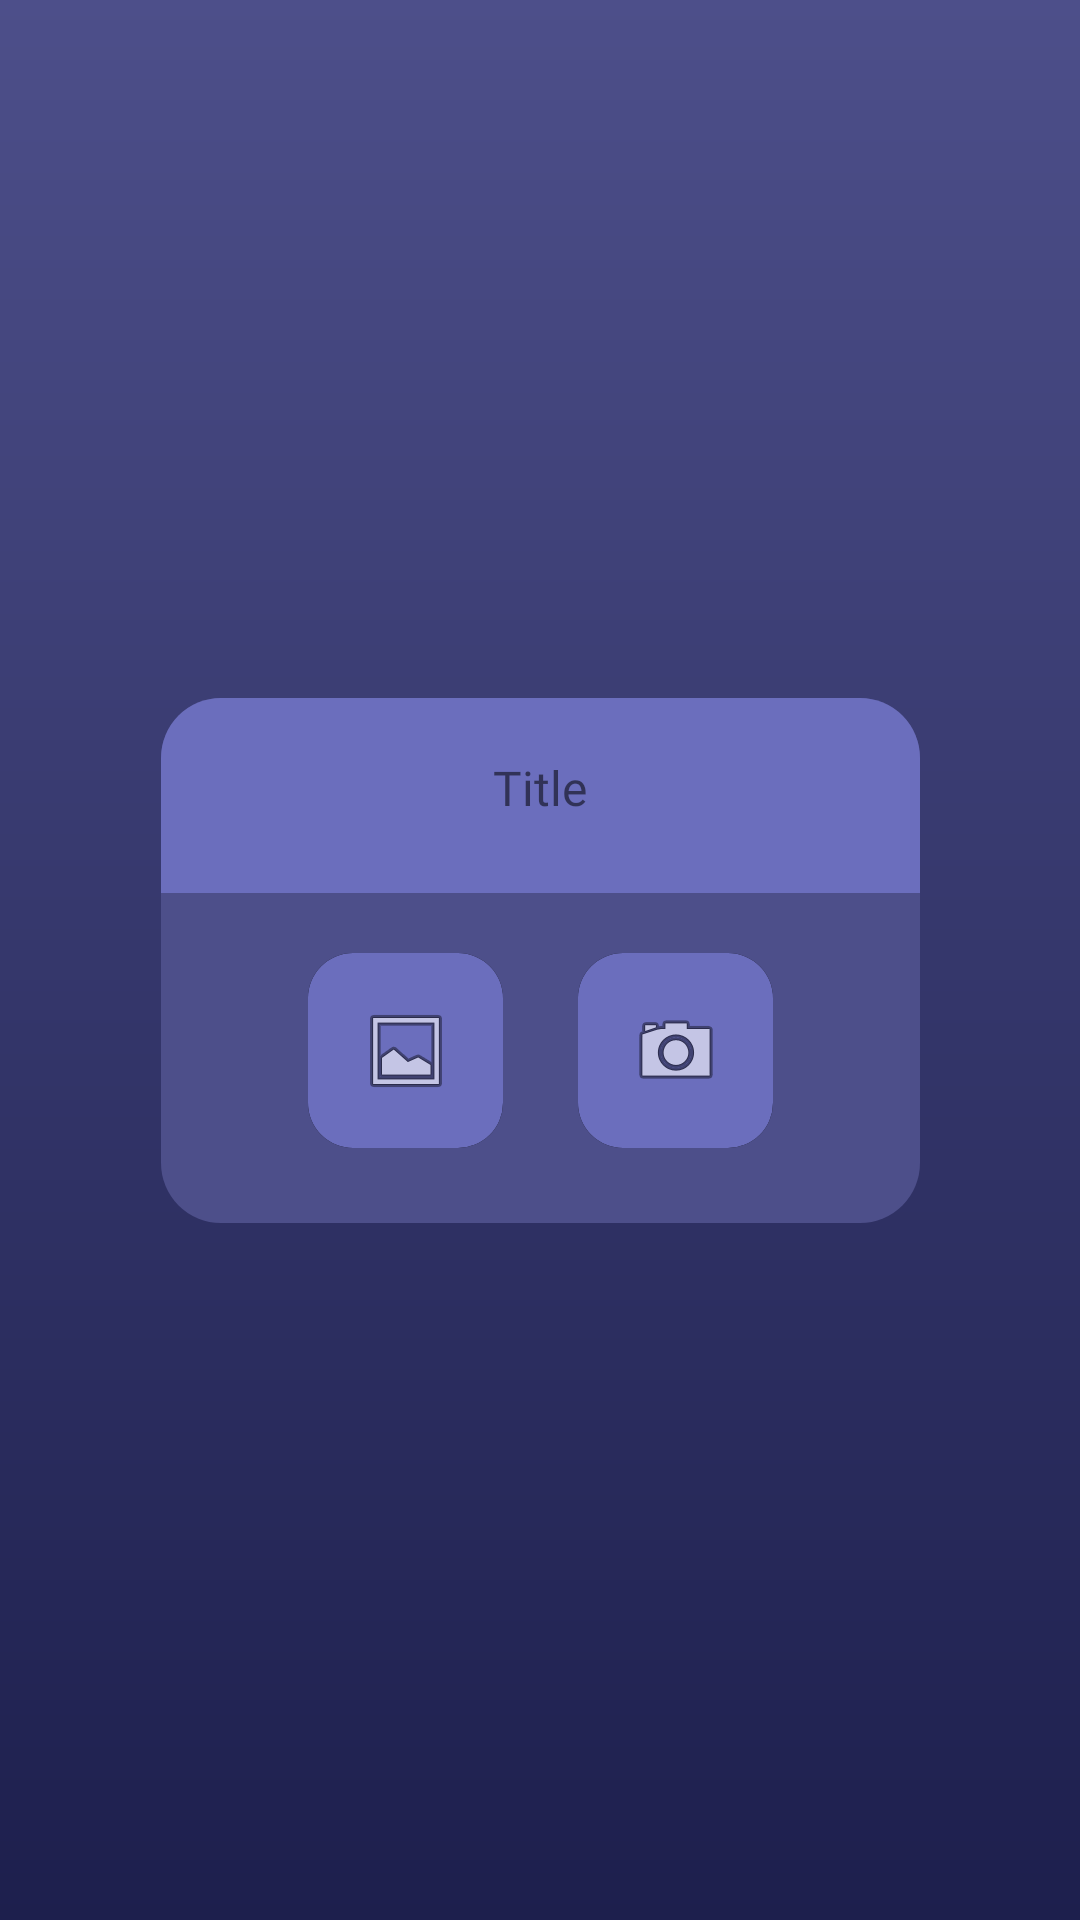

Icons on this 1080w x 1920h Android screen, each with the point to tap as (x=x, y=y):
camera: (x=675, y=1050)
gallery: (x=405, y=1050)
